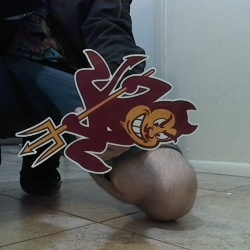sparky: (14, 48, 199, 174)
